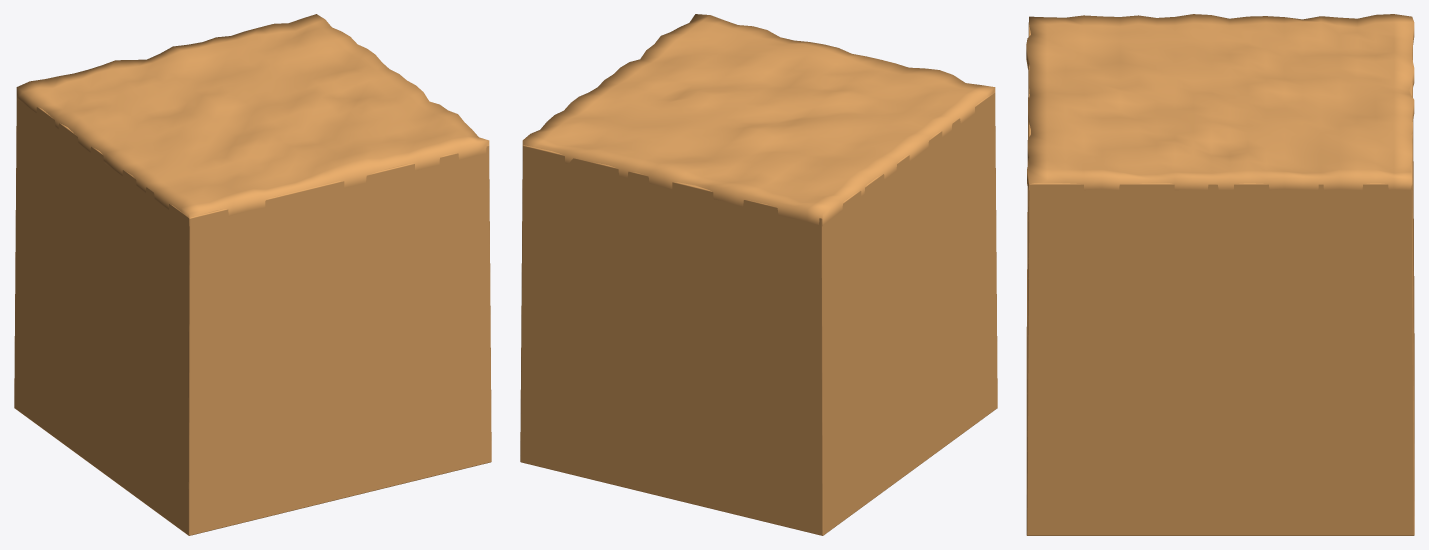
File: Dirt1.1.fbx
3 renders of one model, left to right at view 1: azimuth 30°, elevation 25°; view 2: azimuth 150°, elevation 25°; view 3: azimuth 270°, elevation 25°, orthographic. The views are drawn at different scales.
Visible parts, largest first — view 1: Cube.002, Plane.003; view 2: Cube.002, Plane.003; view 3: Cube.002, Plane.003.
Boxes of the visible parts, x1,y1,x2,y2 form: Cube.002: [14, 99, 491, 535]; Plane.003: [16, 14, 489, 225]; Cube.002: [520, 92, 997, 535]; Plane.003: [522, 14, 995, 225]; Cube.002: [1026, 22, 1414, 535]; Plane.003: [1026, 14, 1414, 190].
Bounding box in the file's own units: 1000 × 1028 × 1001.
